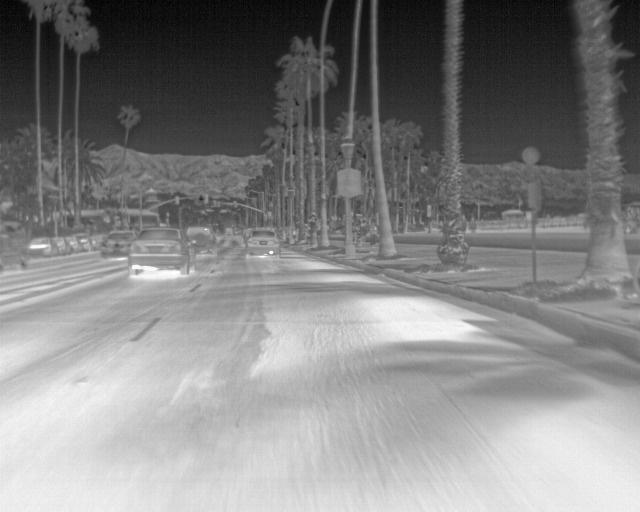bicycle: (125, 226, 190, 275), (1, 221, 32, 269), (243, 226, 281, 255), (98, 229, 137, 257), (181, 225, 213, 254), (26, 237, 54, 257), (49, 235, 70, 255), (77, 232, 94, 252), (67, 234, 83, 254)
empty: (465, 214, 480, 236)
